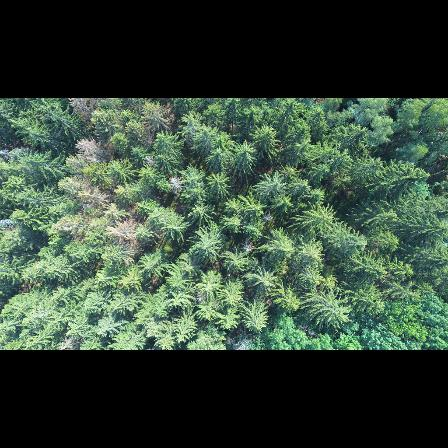Dead: (108, 215, 143, 254), (77, 136, 112, 162), (66, 185, 109, 206), (168, 172, 185, 194), (242, 237, 257, 255)
